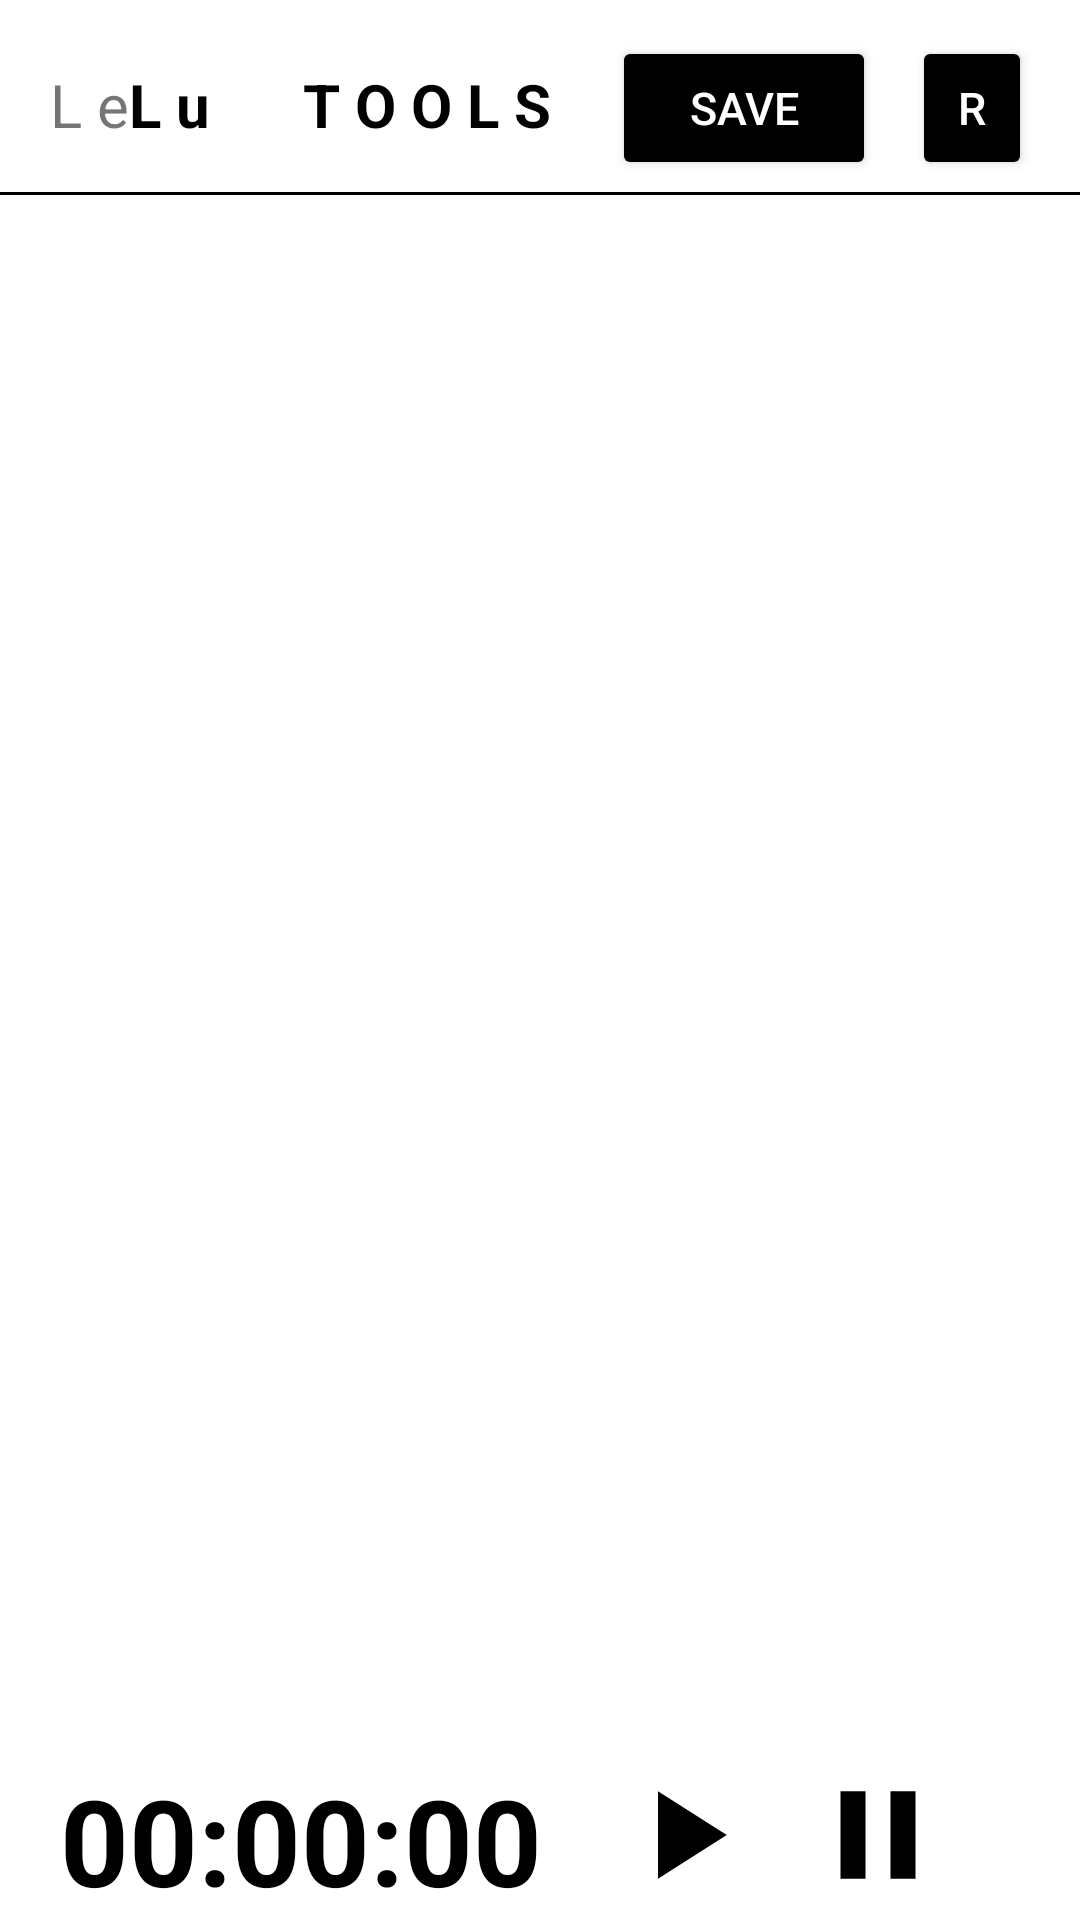

Icons on this 1080x1920 Android screen, each with the point to tap as point (x, y):
pause: point (878, 1835)
play: point (692, 1835)
